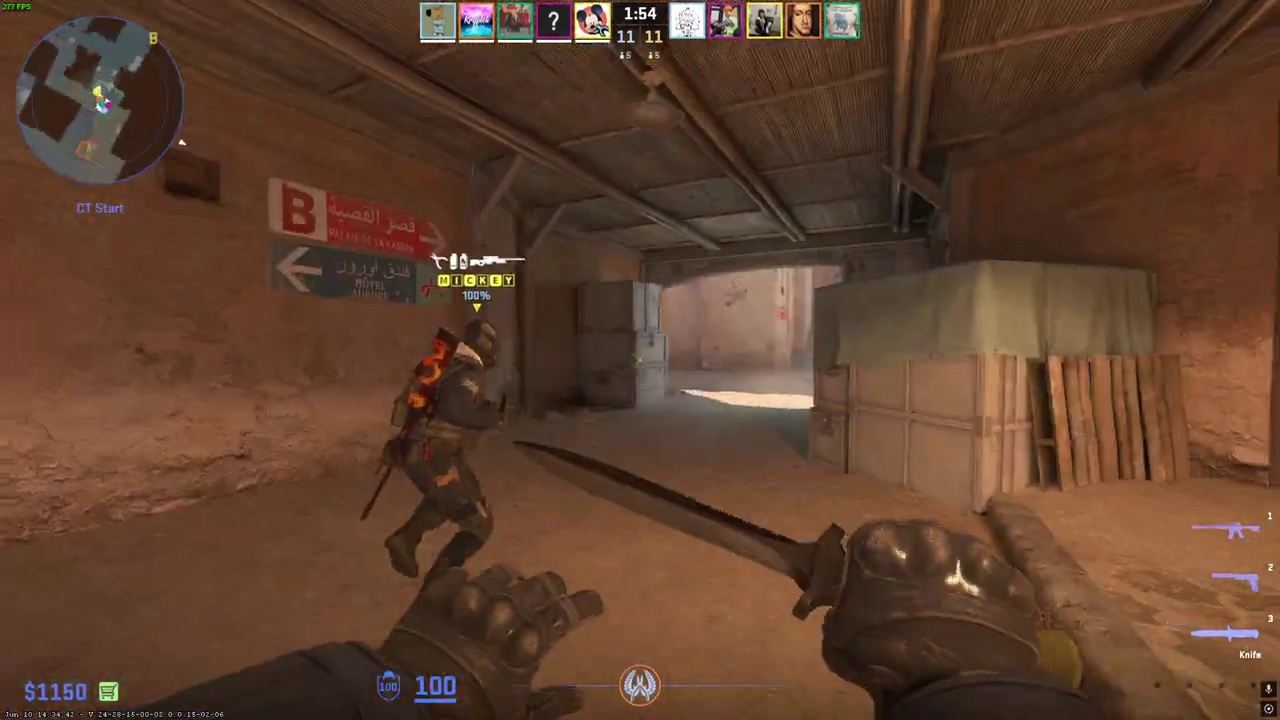CT: (384, 318, 506, 580)
